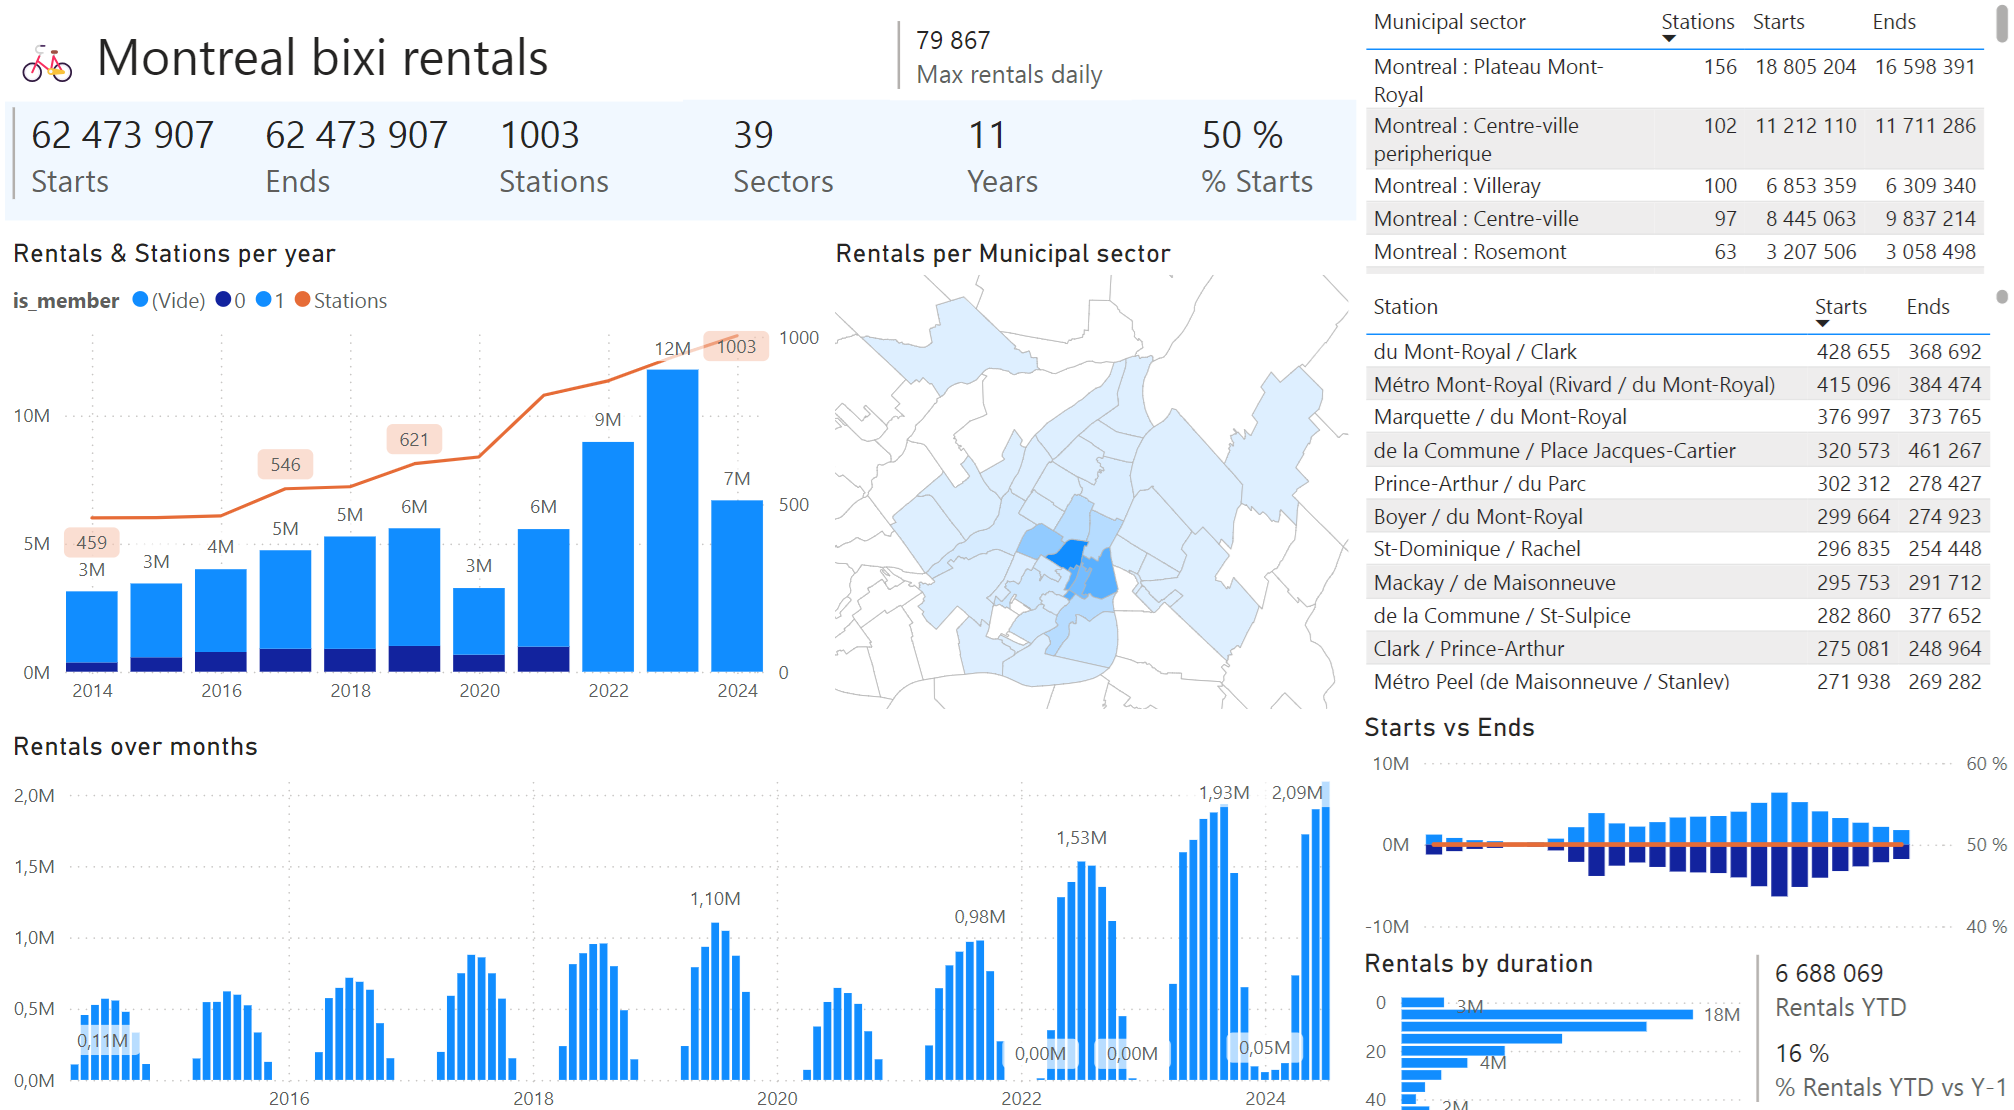

The dashboard page shown, as its layout file describes it:
{"tool":"powerbi","page":{"name":"Montréal Bixi Rentals","canvas":[1280,720],"ordinal":0},"visuals":[{"type":"multiRowCard","fields":{"Values":["stations_yearly.Starts","stations_yearly.Ends","stations_yearly.Stations","stations_yearly.Sectors","Count(stations_yearly.year)","stations_yearly.Starts / Ends"]},"box":[0,65.9,914.7,76.9],"z":0},{"type":"textbox","box":[0,11,431.2,56.3],"z":1000},{"type":"tableEx","fields":{"Values":["secteurs_municipaux_od_2013.sector_name","stations_yearly.Stations","stations_yearly.Starts","stations_yearly.Ends"]},"box":[859.7,0,420.3,181.7],"z":2000},{"type":"tableEx","fields":{"Values":["stations_yearly.name1","stations_yearly.Starts","stations_yearly.Ends"]},"box":[859.7,181.7,420.3,264.8],"z":3000},{"type":"lineStackedColumnComboChart","title":"Rentals & Stations per year","fields":{"Category":["dim_date.dt_annee"],"Y":["raw_bixi_rentals_2014_2020.Rentals"],"Y2":["raw_bixi_rentals_2014_2020.Stations"],"Series":["raw_bixi_rentals_2014_2020.is_member"]},"box":[0,153.8,523.3,306.3],"z":4000},{"type":"shapeMap","title":"Rentals per Municipal sector","fields":{"Category":["secteurs_municipaux_od_2013.sector_name"],"Value":["stations_yearly.Starts + Ends"]},"box":[523.3,153.8,336.5,304.9],"z":5000},{"type":"lineClusteredColumnComboChart","title":"Rentals over months","fields":{"Category":["dim_date.dt_mois"],"Y":["raw_bixi_rentals_2014_2020.Rentals"]},"box":[0,466.6,859.7,252.9],"z":6000},{"type":"lineStackedColumnComboChart","title":"Starts vs Ends","fields":{"Category":["raw_bixi_rentals_2014_2020.Start hour"],"Y":["stations_yearly.Starts","stations_yearly.-Ends"],"Y2":["stations_yearly.% Starts"]},"box":[859.7,454.6,420.3,151.1],"z":7000},{"type":"clusteredBarChart","title":"Rentals by duration","fields":{"Category":["raw_bixi_rentals_2014_2020.duration_5min_group"],"Y":["stations_yearly.Starts"]},"box":[859.5,604.8,249.6,115.6],"z":8000},{"type":"multiRowCard","fields":{"Values":["raw_bixi_rentals_2014_2020.Rentals YTD","raw_bixi_rentals_2014_2020.% Rentals YTD vs Y-1"]},"box":[1109.1,604.8,170.9,115.6],"z":9000},{"type":"multiRowCard","fields":{"Values":["raw_bixi_rentals_2014_2020.Max rentals daily"]},"box":[563.1,11,153.8,54.9],"z":10000}]}

Visuals, with their boxes in screenshot pixels (x1, y1, x2, y2), scaled from the page's 1280x720 canvas onto the 2014x1110 screenshot:
multiRowCard - stations_yearly.Starts x stations_yearly.Ends: {"x1": 0, "y1": 102, "x2": 1439, "y2": 220}
textbox: {"x1": 0, "y1": 17, "x2": 678, "y2": 104}
tableEx - secteurs_municipaux_od_2013.sector_name x stations_yearly.Stations: {"x1": 1353, "y1": 0, "x2": 2013, "y2": 280}
tableEx - stations_yearly.name1 x stations_yearly.Starts: {"x1": 1353, "y1": 280, "x2": 2013, "y2": 688}
"Rentals & Stations per year" lineStackedColumnComboChart: {"x1": 0, "y1": 237, "x2": 823, "y2": 709}
"Rentals per Municipal sector" shapeMap: {"x1": 823, "y1": 237, "x2": 1353, "y2": 707}
"Rentals over months" lineClusteredColumnComboChart: {"x1": 0, "y1": 719, "x2": 1353, "y2": 1109}
"Starts vs Ends" lineStackedColumnComboChart: {"x1": 1353, "y1": 701, "x2": 2013, "y2": 934}
"Rentals by duration" clusteredBarChart: {"x1": 1352, "y1": 932, "x2": 1745, "y2": 1109}
multiRowCard - raw_bixi_rentals_2014_2020.Rentals YTD x raw_bixi_rentals_2014_2020.% Rentals YTD vs Y-1: {"x1": 1745, "y1": 932, "x2": 2013, "y2": 1109}
multiRowCard - raw_bixi_rentals_2014_2020.Max rentals daily: {"x1": 886, "y1": 17, "x2": 1128, "y2": 102}
